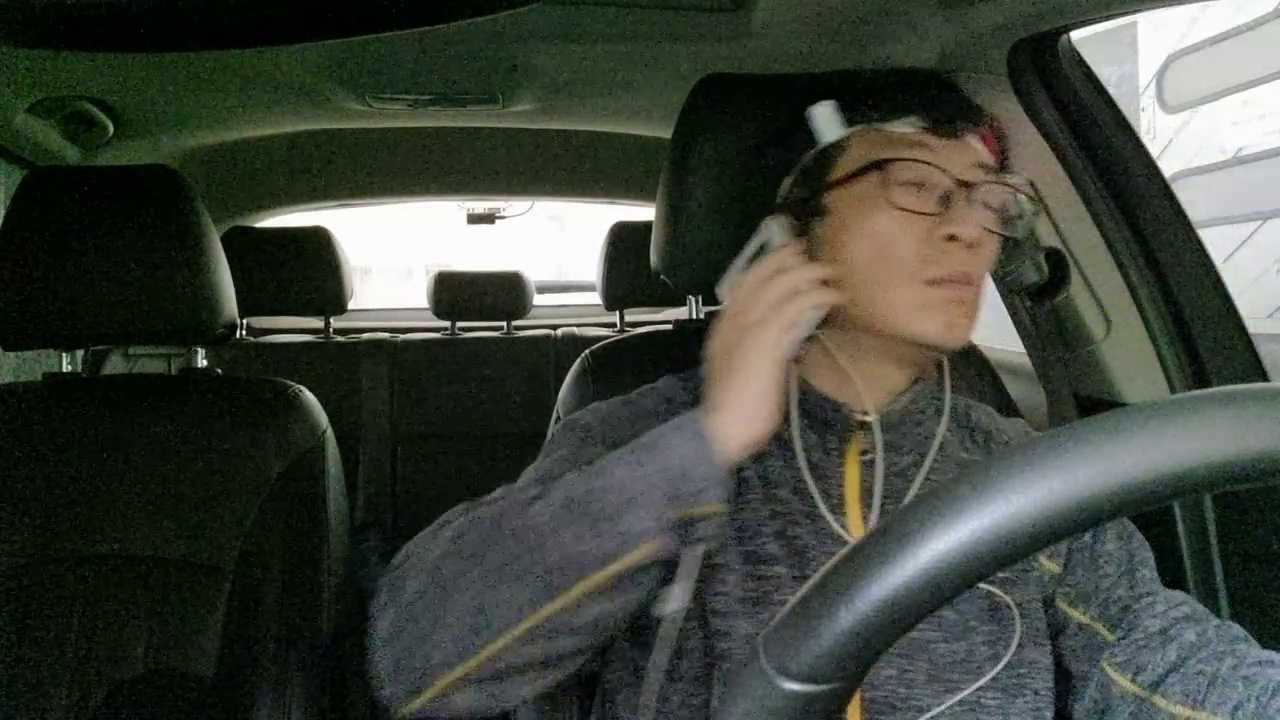phone: (689, 186, 858, 382)
